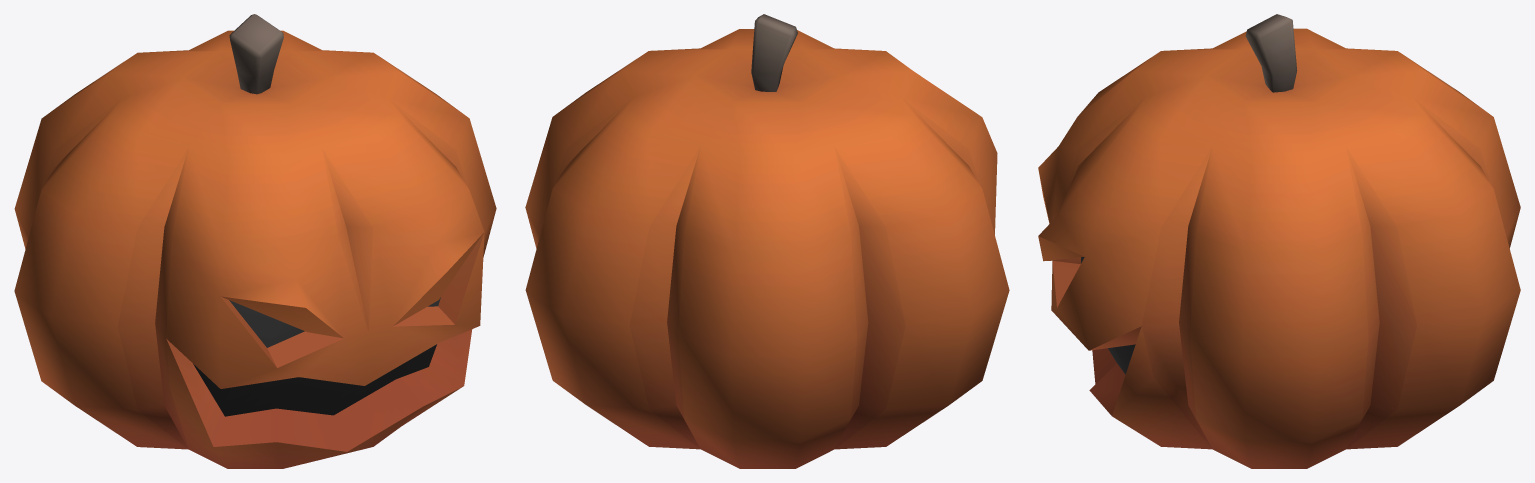
Rendered from pumpkin-orange-jackolantern.glb.
3 renders of one model, left to right at view 1: azimuth 30°, elevation 25°; view 2: azimuth 150°, elevation 25°; view 3: azimuth 270°, elevation 25°, orthographic.
Parts seen in each view (by area): view 1: pumpkin_orange_jackolantern; view 2: pumpkin_orange_jackolantern; view 3: pumpkin_orange_jackolantern.
Part boxes in pixels (box(x1,y1,x2,y2)): pumpkin_orange_jackolantern: box(14, 14, 496, 468); pumpkin_orange_jackolantern: box(525, 14, 1009, 468); pumpkin_orange_jackolantern: box(1038, 14, 1520, 468).
Size of the model in its own units: 1.5 by 1.3 by 1.4.
1 material, 1 textured.
